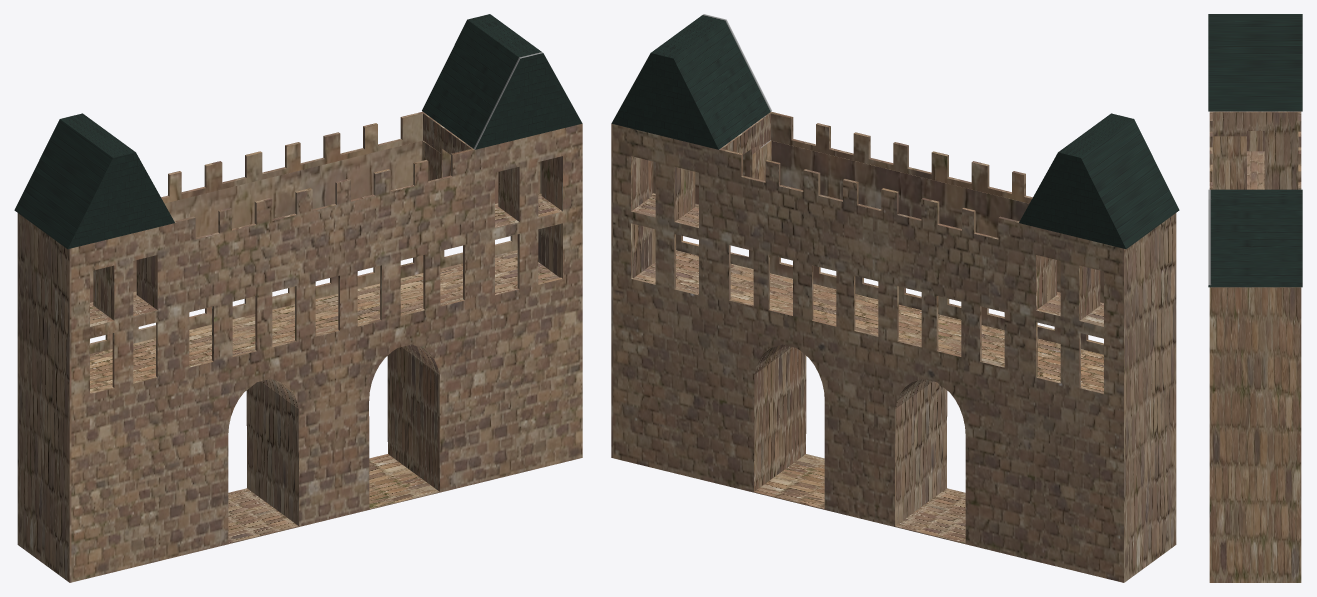
Rendered from DoubleGate.fbx.
3 views of the same model, side by side, from view 1: azimuth 30°, elevation 25°; view 2: azimuth 150°, elevation 25°; view 3: azimuth 270°, elevation 25° (orthographic). The views are drawn at different scales.
Parts seen in each view (by area): view 1: DoubleGate; view 2: DoubleGate; view 3: DoubleGate.
Boxes of the visible parts, bbox=[...] form: DoubleGate: bbox=[14, 14, 582, 582]; DoubleGate: bbox=[611, 14, 1179, 582]; DoubleGate: bbox=[1208, 14, 1302, 582].
Size of the model in its own units: 1913 by 1471 by 342.
